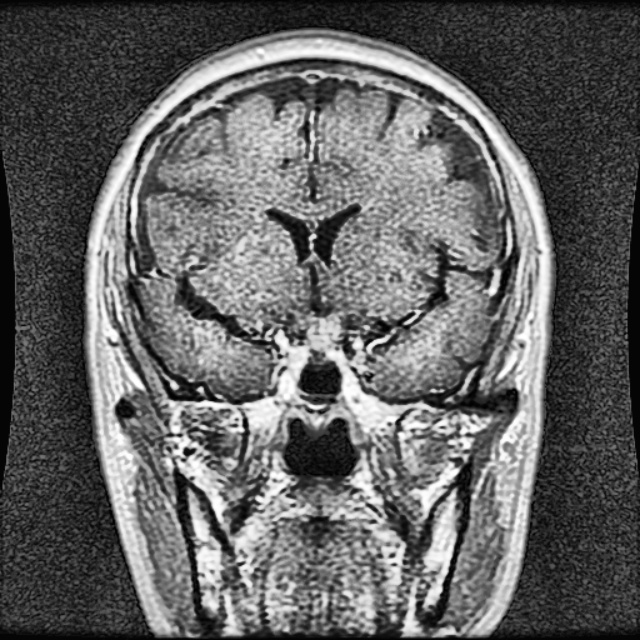Pituitary: (305, 314, 344, 350)
